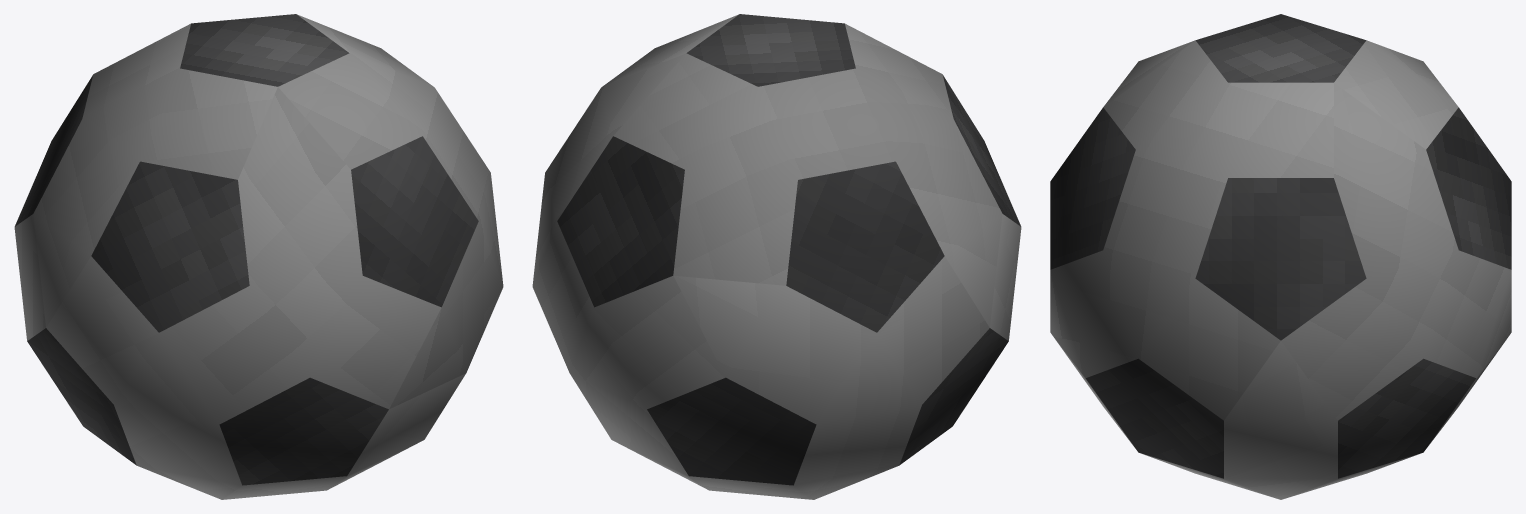
Rendered from soccerball.obj.
The picture shows the model from 3 angles, left to right: view 1: azimuth 30°, elevation 25°; view 2: azimuth 150°, elevation 25°; view 3: azimuth 270°, elevation 25°; orthographic projection.
Visible parts, largest first — view 1: Soccer; view 2: Soccer; view 3: Soccer.
Part boxes in pixels (x1,y1,x2,y2): Soccer: (14,14,503,499); Soccer: (532,14,1021,499); Soccer: (1050,14,1511,499).
Bounding box in the file's own units: 0.8446 × 0.7877 × 0.8033.
